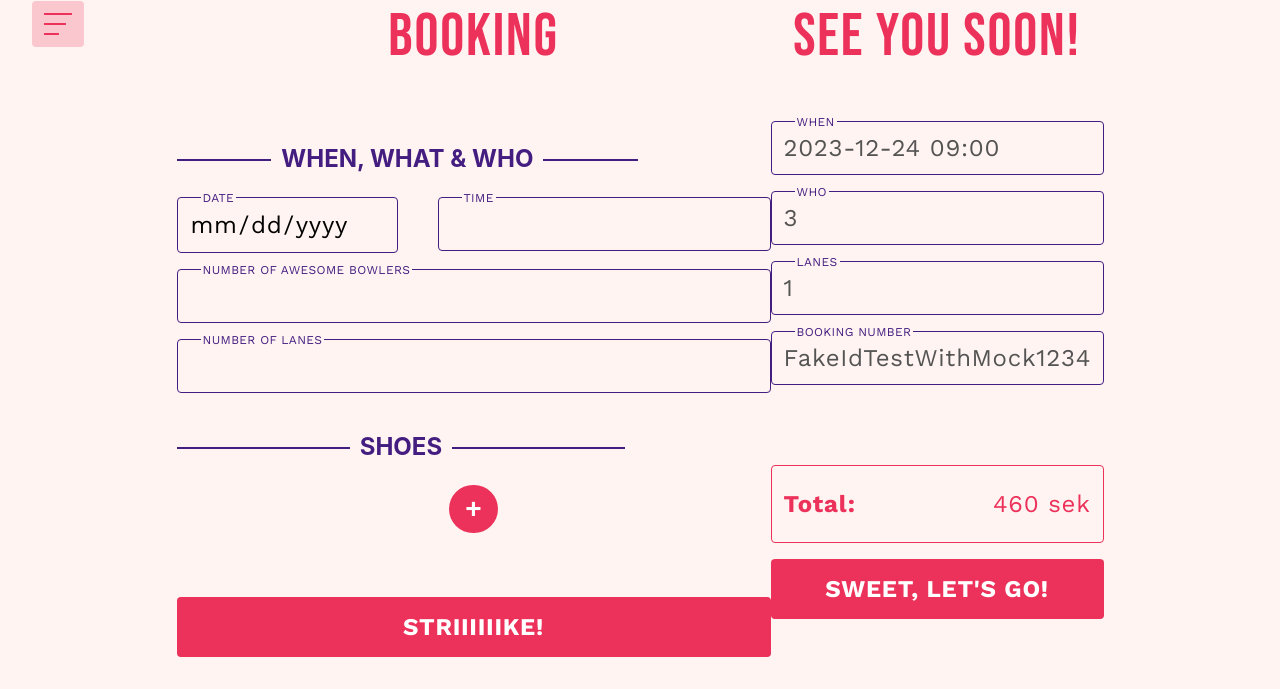
Test: tests for Booking component › should display error message if all fields is not filled
The image size is (1280, 689).
(page scrolled)
What coordinates should you click on to do the following:
click the button "strIIIIIike!"
I would click on:
 (474, 627)
Its box is [176,597,770,657].
(page scrolled)
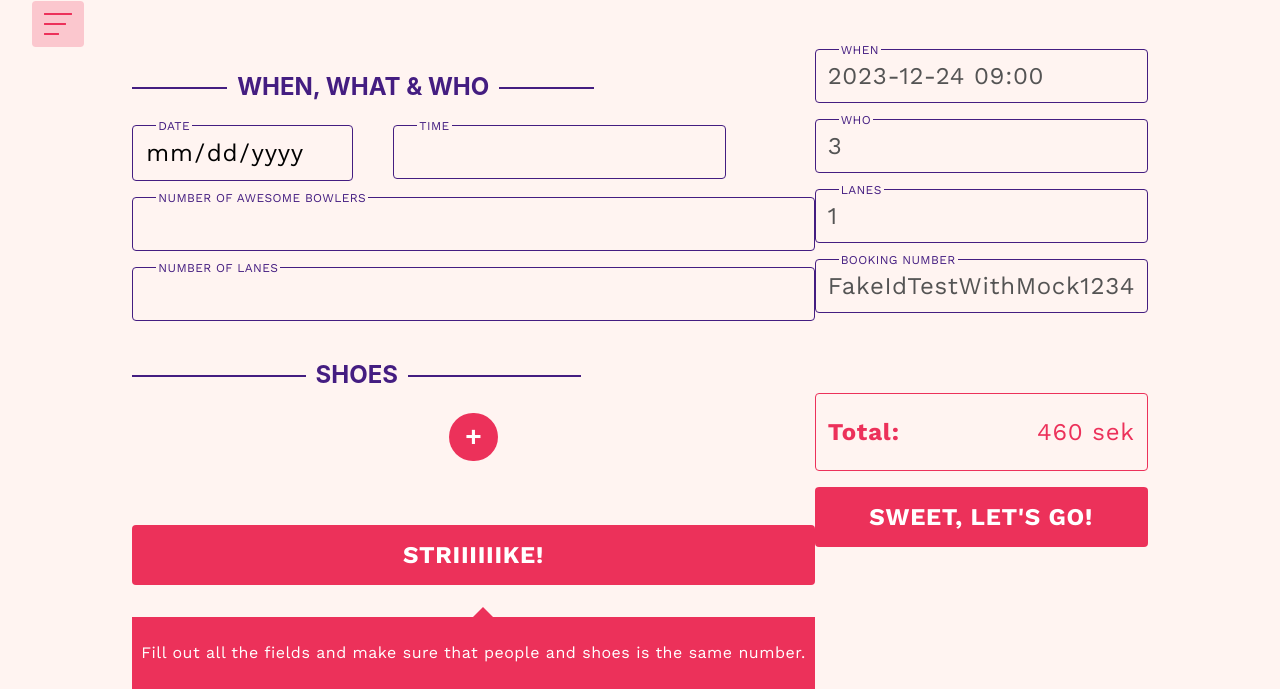
Expected: the text "Fill out all the fields and make sure that people and shoes is the same number." is shown, [141,642,806,664]
